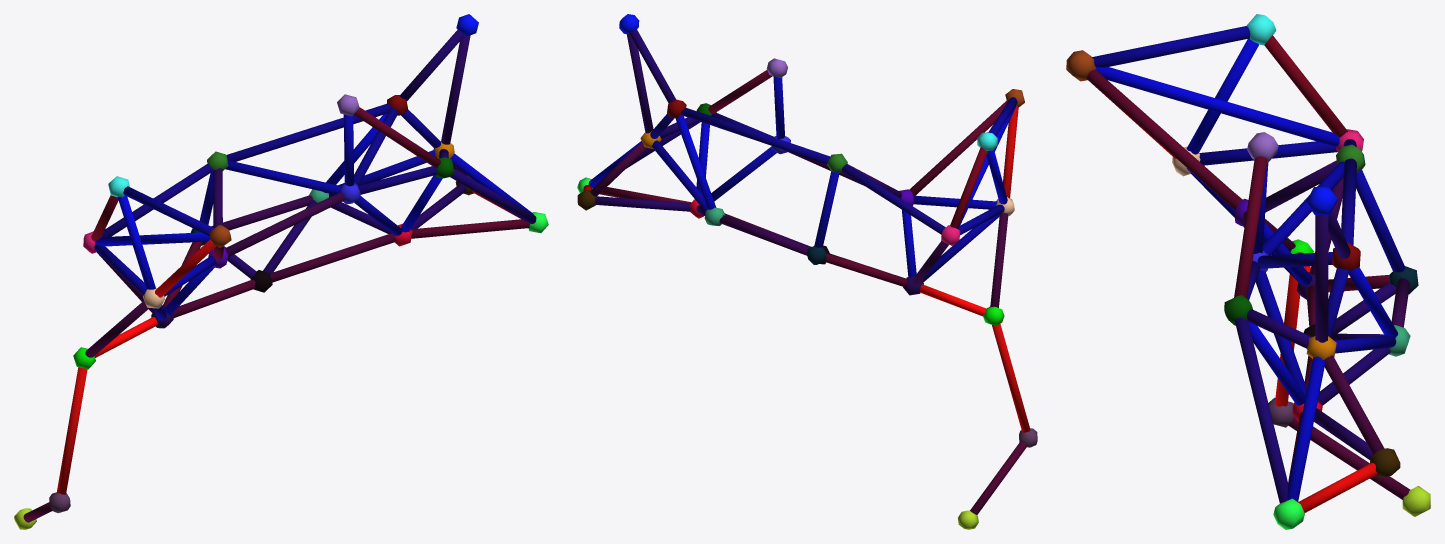
The model's file is pikachu_skel.glb.
3 renders of one model, left to right at view 1: azimuth 30°, elevation 25°; view 2: azimuth 150°, elevation 25°; view 3: azimuth 270°, elevation 25°, orthographic. The views are drawn at different scales.
Visible parts, largest first — view 1: fg-00012-skel; view 2: fg-00012-skel; view 3: fg-00012-skel.
Part boxes in pixels (<box>): fg-00012-skel: <box>14,14,548,529</box>; fg-00012-skel: <box>577,14,1037,529</box>; fg-00012-skel: <box>1066,14,1430,529</box>.
Bounding box in the file's own units: 0.2428 × 0.2044 × 0.1126.
Materials: 1 (1 with a texture image).
